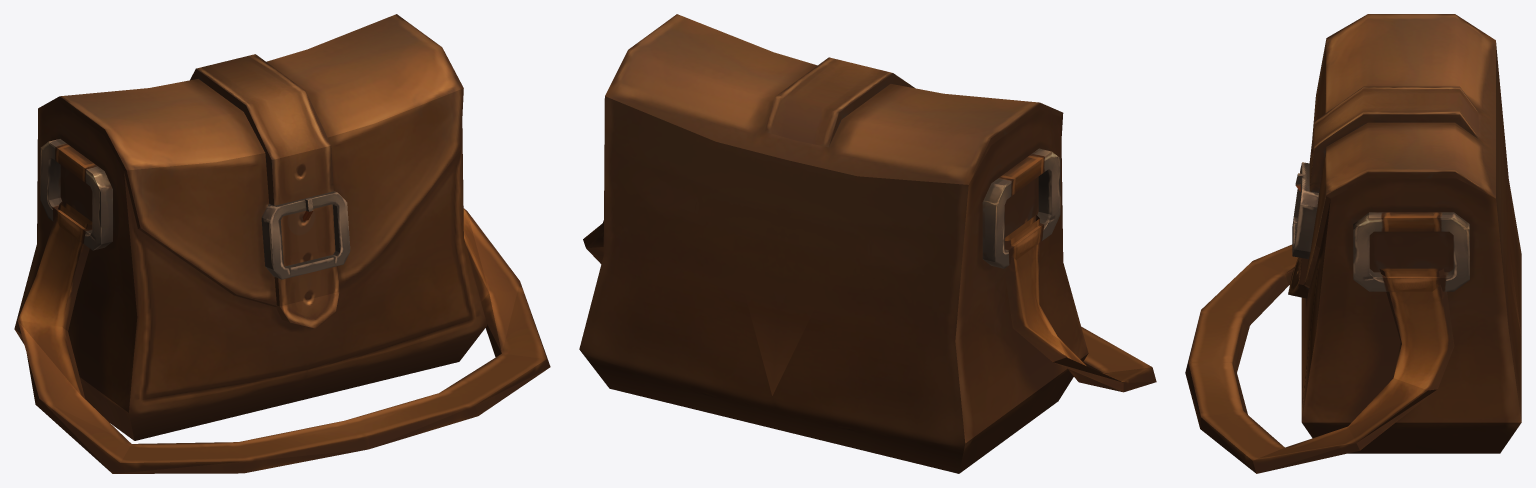
Rendered from 82_cross bag.FBX.
3 views of the same model, side by side, from view 1: azimuth 30°, elevation 25°; view 2: azimuth 150°, elevation 25°; view 3: azimuth 270°, elevation 25° (orthographic). The views are drawn at different scales.
Visible parts, largest first — view 1: Object033; view 2: Object033; view 3: Object033.
Part boxes in pixels (box(x1,y1,x2,y2)): Object033: box(14, 14, 550, 473); Object033: box(579, 14, 1156, 473); Object033: box(1185, 14, 1521, 473).
Bounding box in the file's own units: 67.9 × 39.65 × 42.51.
